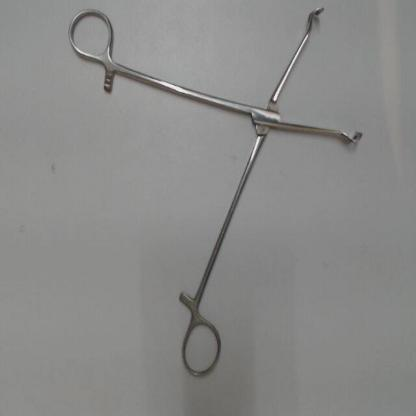8 Babcock Tissue Forceps: (64, 2, 369, 382)
